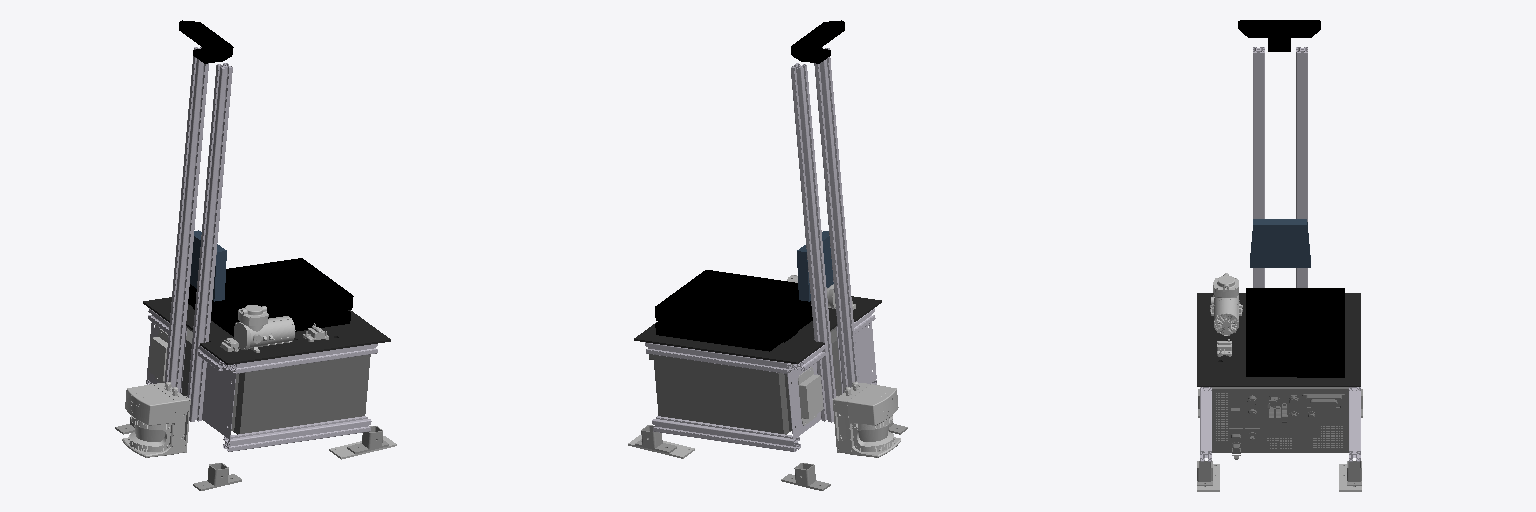
--- Facts derived from the render (not from the file) ---
Views: 3 orthographic renders of the robot side by side, from view 1: azimuth 30°, elevation 25°; view 2: azimuth 150°, elevation 25°; view 3: azimuth 270°, elevation 25°.
Robot: robot — 47 links, 46 joints (46 fixed); root link base_link; default pose: all joints at 0.
Links seen in each view (by area): view 1: IRC5_Compact:11, PC:11, arm rail:11, arm rail:21, SICK LMS291:11, top plate:11, lower side rail:31, compressor:11, front left plate:11, lower side rail:41, Kinect:11, router keepout:11 (+3 smaller); view 2: PC:11, IRC5_Compact:11, arm rail:21, arm rail:11, SICK LMS291:11, top plate:11, lower side rail:11, lower side rail:21, Kinect:11, front left plate:11, LIDAR PSU:11, router keepout:11 (+3 smaller); view 3: IRC5_Compact:11, PC:11, top plate:11, router keepout:11, arm rail:21, arm rail:11, Kinect:11, compressor:11, lower side rail:11, lower side rail:31.
Link boxes in pixels (<box>): IRC5_Compact:11: <box>181,327,370,434</box>; PC:11: <box>188,258,353,336</box>; arm rail:11: <box>187,63,232,421</box>; arm rail:21: <box>164,47,208,392</box>; SICK LMS291:11: <box>122,382,188,457</box>; top plate:11: <box>143,297,390,364</box>; lower side rail:31: <box>223,416,371,451</box>; compressor:11: <box>234,305,295,352</box>; front left plate:11: <box>202,363,235,439</box>; lower side rail:41: <box>230,344,377,373</box>; Kinect:11: <box>179,20,233,63</box>; router keepout:11: <box>190,230,226,301</box>; PC:11: <box>655,270,812,351</box>; IRC5_Compact:11: <box>649,327,841,434</box>; arm rail:21: <box>791,63,835,422</box>; arm rail:11: <box>814,47,858,392</box>; SICK LMS291:11: <box>834,382,900,457</box>; top plate:11: <box>634,296,881,363</box>; lower side rail:11: <box>652,416,800,451</box>; lower side rail:21: <box>645,342,793,373</box>; Kinect:11: <box>791,20,844,63</box>; front left plate:11: <box>836,322,876,393</box>; LIDAR PSU:11: <box>798,367,823,425</box>; router keepout:11: <box>797,231,833,301</box>; IRC5_Compact:11: <box>1212,387,1348,459</box>; PC:11: <box>1246,288,1344,377</box>; top plate:11: <box>1197,293,1360,386</box>; router keepout:11: <box>1250,219,1310,267</box>; arm rail:21: <box>1296,47,1307,287</box>; arm rail:11: <box>1253,47,1264,287</box>; Kinect:11: <box>1238,20,1320,51</box>; compressor:11: <box>1210,273,1242,335</box>; lower side rail:11: <box>1349,388,1360,461</box>; lower side rail:31: <box>1200,388,1211,461</box>.
Size in the robot's own frame: 0.8175 by 0.547 by 1.46 metres.
27 mesh visuals loaded from 33 distinct referenced files (19 binary STL); not drawn: 19 (reference not matched to a file when rendering).

robot.urdf — robot:
<?xml version="1.0" ?>
<robot name="robot">
	<link name="base_link">
	</link>
	<joint name="frame bracket:11--base_link" type="fixed">
		<parent link="base_link"/>
		<child link="frame bracket:11"/>
		<origin rpy="0 0 0" xyz="0 0 0"/>
	</joint>
	<link name="frame bracket:11">
		<visual>
			<geometry>
				<mesh filename="package://abby_urdf/frame bracket_ipt_f5a4f28d.stl" scale=".0254 .0254 .0254"/>
			</geometry>
			<origin rpy="0 0 0" xyz="-0.668614855779 0.223187514005 0.385510620591"/>
			<material name="frame bracket:11_color">
				<color rgba="0.639216 0.639216 0.639216 1"/>
			</material>
		</visual>
		<inertial>
			<mass value="3.472875"/>
			<inertia ixx="0.000430464342" ixy="0.0" ixz="-1.181352018e-05" iyy="0.001091541374" iyz="0.0" izz="0.001059703568"/>
			<origin rpy="0 0 0" xyz="-0.591517946993 0.248587514004 0.402240585061"/>
		</inertial>
		<collision>
			<geometry>
				<mesh filename="package://abby_urdf/frame bracket_ipt_f5a4f28d.stl" scale=".0254 .0254 .0254"/>
			</geometry>
			<origin rpy="0 0 0" xyz="-0.668614855779 0.223187514005 0.385510620591"/>
		</collision>
	</link>
	<link name="front frame plate:21">
		<visual>
			<geometry>
				<mesh filename="package://abby_urdf/front frame plate_ipt_3e5bfe16.stl" scale=".0254 .0254 .0254"/>
			</geometry>
			<origin rpy="0 0 0" xyz="-0.0380997460006 -0.076198819979 -0.0063519134942"/>
			<material name="front frame plate:21_color">
				<color rgba="0.752941 0.752941 0.752941 1"/>
			</material>
		</visual>
		<inertial>
			<mass value="0.352841895"/>
			<inertia ixx="0.0001399573098" ixy="0.0" ixz="0.0" iyy="3.54713128e-05" iyz="0.0" izz="0.0001749408584"/>
			<origin rpy="0 0 0" xyz="-9.49960000032e-05 -5.73476592547e-07 -0.00317623313274"/>
		</inertial>
		<collision>
			<geometry>
				<mesh filename="package://abby_urdf/front frame plate_ipt_3e5bfe16.stl" scale=".0254 .0254 .0254"/>
			</geometry>
			<origin rpy="0 0 0" xyz="-0.0380997460006 -0.076198819979 -0.0063519134942"/>
		</collision>
	</link>
	<joint name="front frame plate:2--frame bracket:11" type="fixed">
		<parent link="frame bracket:11"/>
		<child link="front frame plate:21"/>
		<origin rpy="0 0 -1.57079632679" xyz="-0.59241441583 0.235887514004 0.385512358526"/>
	</joint>
	<link name="invacare assy:11">
		<visual>
			<geometry>
				<mesh filename="package://abby_urdf/invacare assy_iam_8d469021.stl" scale=".0254 .0254 .0254"/>
			</geometry>
			<origin rpy="0 0 0" xyz="-3.057628886 -0.32113474 1.5698851"/>
			<material name="invacare assy:11_color">
				<color rgba="0.752941 0.752941 0.752941 1"/>
			</material>
		</visual>
		<inertial>
			<mass value="408.24252"/>
			<inertia ixx="-46.619958" ixy="10.86283352" ixz="-89.425875" iyy="-209.160721" iyz="-5.78642834" izz="-163.0940696"/>
			<origin rpy="0 0 0" xyz="0.2089091834 -0.1016889 -0.4207637"/>
		</inertial>
		<collision>
			<geometry>
				<mesh filename="package://abby_urdf/invacare assy_iam_8d469021.stl" scale=".0254 .0254 .0254"/>
			</geometry>
			<origin rpy="0 0 0" xyz="-3.057628886 -0.32113474 1.5698851"/>
		</collision>
	</link>
	<joint name="frame bracket:1--invacare assy:11" type="fixed">
		<parent link="frame bracket:11"/>
		<child link="invacare assy:11"/>
		<origin rpy="1.47691506249 0 -1.5707963268" xyz="-0.668614855779 0.223187514005 0.385510620591"/>
	</joint>
	<link name="back frame plate:21">
		<visual>
			<geometry>
				<mesh filename="package://abby_urdf/back frame plate_ipt_475e4947.stl" scale=".0254 .0254 .0254"/>
			</geometry>
			<origin rpy="0 0 0" xyz="-0.47756318 -0.0269875139443 -0.00634996092948"/>
			<material name="back frame plate:21_color">
				<color rgba="0.752941 0.752941 0.752941 1"/>
			</material>
		</visual>
		<inertial>
			<mass value="0.47233305"/>
			<inertia ixx="0.00033438328" ixy="8.4144445e-07" ixz="0.0" iyy="4.75112176e-05" iyz="0.0" izz="0.00038124317"/>
			<origin rpy="0 0 0" xyz="-0.439520330002 0.074461052695 -0.00317660211541"/>
		</inertial>
		<collision>
			<geometry>
				<mesh filename="package://abby_urdf/back frame plate_ipt_475e4947.stl" scale=".0254 .0254 .0254"/>
			</geometry>
			<origin rpy="0 0 0" xyz="-0.47756318 -0.0269875139443 -0.00634996092948"/>
		</collision>
	</link>
	<joint name="invacare assy:1--back frame plate:21" type="fixed">
		<parent link="invacare assy:11"/>
		<child link="back frame plate:21"/>
		<origin rpy="1.6646775911 0 0" xyz="0.428673514 0.05834888 -0.6874312388"/>
	</joint>
	<link name="short frame bracket:11">
		<visual>
			<geometry>
				<mesh filename="package://abby_urdf/short frame bracket_ipt_f5a4f28d.stl" scale=".0254 .0254 .0254"/>
			</geometry>
			<origin rpy="0 0 0" xyz="-0.0253999879046 -0.0254000000063 1.10656414559e-06"/>
			<material name="short frame bracket:11_color">
				<color rgba="0.639216 0.639216 0.639216 1"/>
			</material>
		</visual>
		<inertial>
			<mass value="3.472875"/>
			<inertia ixx="0.00044426921" ixy="0.0" ixz="-8.33766626e-05" iyy="0.000868211498" iyz="0.0" izz="0.000832332886"/>
			<origin rpy="0 0 0" xyz="0.0451349027302 0 0.0181780891503"/>
		</inertial>
		<collision>
			<geometry>
				<mesh filename="package://abby_urdf/short frame bracket_ipt_f5a4f28d.stl" scale=".0254 .0254 .0254"/>
			</geometry>
			<origin rpy="0 0 0" xyz="-0.0253999879046 -0.0254000000063 1.10656414559e-06"/>
		</collision>
	</link>
	<joint name="back frame plate:2--short frame bracket:11" type="fixed">
		<parent link="back frame plate:21"/>
		<child link="short frame bracket:11"/>
		<origin rpy="3.14159265353 0 -1.57079632653" xyz="-0.452163434002 0.100012345488 -0.00635038374072"/>
	</joint>
	<link name="lower front rail:51">
		<visual>
			<geometry>
				<mesh filename="package://abby_urdf/lower front rail_ipt_926bd022.stl" scale=".0254 .0254 .0254"/>
			</geometry>
			<origin rpy="0 0 0" xyz="0 -0.024500078 0.01391412"/>
			<material name="lower front rail:51_color">
				<color rgba="0.772549 0.760784 0.803922 1"/>
			</material>
		</visual>
		<inertial>
			<mass value="3.3373998"/>
			<inertia ixx="0.0002209592308" ixy="0.0" ixz="0.0" iyy="0.01201763794" iyz="0.0" izz="0.01201763794"/>
			<origin rpy="0 0 0" xyz="0.228118763983 -0.0170002199428 0.0199999600125"/>
		</inertial>
		<collision>
			<geometry>
				<mesh filename="package://abby_urdf/lower front rail_ipt_926bd022.stl" scale=".0254 .0254 .0254"/>
			</geometry>
			<origin rpy="0 0 0" xyz="0 -0.024500078 0.01391412"/>
		</collision>
	</link>
	<joint name="lower front rail:5--short frame bracket:11" type="fixed">
		<parent link="short frame bracket:11"/>
		<child link="lower front rail:51"/>
		<origin rpy="-0.0938812643083 0 -1.5707963268" xyz="0.0737204456572 -0.0190449199831 0.0570486936296"/>
	</joint>
	<link name="front frame plate:11">
		<visual>
			<geometry>
				<mesh filename="package://abby_urdf/front frame plate_ipt_3e5bfe16.stl" scale=".0254 .0254 .0254"/>
			</geometry>
			<origin rpy="0 0 0" xyz="-0.0381002539994 -0.0762020599195 -0.00634843762365"/>
			<material name="front frame plate:11_color">
				<color rgba="0.752941 0.752941 0.752941 1"/>
			</material>
		</visual>
		<inertial>
			<mass value="0.352841895"/>
			<inertia ixx="0.0001399573098" ixy="0.0" ixz="0.0" iyy="3.54713128e-05" iyz="0.0" izz="0.0001749408584"/>
			<origin rpy="0 0 0" xyz="-9.49959999988e-05 -2.19344651986e-06 -0.00317394242619"/>
		</inertial>
		<collision>
			<geometry>
				<mesh filename="package://abby_urdf/front frame plate_ipt_3e5bfe16.stl" scale=".0254 .0254 .0254"/>
			</geometry>
			<origin rpy="0 0 0" xyz="-0.0381002539994 -0.0762020599195 -0.00634843762365"/>
		</collision>
	</link>
	<joint name="front frame plate:1--invacare assy:11" type="fixed">
		<parent link="invacare assy:11"/>
		<child link="front frame plate:11"/>
		<origin rpy="-1.6646775911 0 -3.14159265359" xyz="0.45466 0.00082296 -0.07646162"/>
	</joint>
	<link name="short frame bracket:21">
		<visual>
			<geometry>
				<mesh filename="package://abby_urdf/short frame bracket_ipt_f5a4f28d.stl" scale=".0254 .0254 .0254"/>
			</geometry>
			<origin rpy="0 0 0" xyz="-0.12541235717 -0.0507999999928 1.4695302738e-06"/>
			<material name="short frame bracket:21_color">
				<color rgba="0.639216 0.639216 0.639216 1"/>
			</material>
		</visual>
		<inertial>
			<mass value="3.472875"/>
			<inertia ixx="0.00044426921" ixy="0.0" ixz="-8.33766626e-05" iyy="0.000868211498" iyz="0.0" izz="0.000832332886"/>
			<origin rpy="0 0 0" xyz="-0.0548774665279 -0.0253999999971 0.0181784521161"/>
		</inertial>
		<collision>
			<geometry>
				<mesh filename="package://abby_urdf/short frame bracket_ipt_f5a4f28d.stl" scale=".0254 .0254 .0254"/>
			</geometry>
			<origin rpy="0 0 0" xyz="-0.12541235717 -0.0507999999928 1.4695302738e-06"/>
		</collision>
	</link>
	<joint name="short frame bracket:2--invacare assy:11" type="fixed">
		<parent link="invacare assy:11"/>
		<child link="short frame bracket:21"/>
		<origin rpy="0 1.47691506249 1.57079632741" xyz="0.445437514 0.06467094 -0.6868359898"/>
	</joint>
	<link name="lower vertical rail:11">
		<visual>
			<geometry>
				<mesh filename="package://abby_urdf/lower vertical rail_ipt_926bd022.stl" scale=".0254 .0254 .0254"/>
			</geometry>
			<origin rpy="0 0 0" xyz="-0.00168655999995 0.00839292200654 -0.0260857999979"/>
			<material name="lower vertical rail:11_color">
				<color rgba="0.772549 0.760784 0.803922 1"/>
			</material>
		</visual>
		<inertial>
			<mass value="2.6309619"/>
			<inertia ixx="0.0001741879986" ixy="0.0" ixz="0.0" iyy="0.00592055618" iyz="0.0" izz="0.00592055618"/>
			<origin rpy="0 0 0" xyz="0.17814544 0.015893034005 -0.0199999599957"/>
		</inertial>
		<collision>
			<geometry>
				<mesh filename="package://abby_urdf/lower vertical rail_ipt_926bd022.stl" scale=".0254 .0254 .0254"/>
			</geometry>
			<origin rpy="0 0 0" xyz="-0.00168655999995 0.00839292200654 -0.0260857999979"/>
		</collision>
	</link>
	<joint name="short frame bracket:2--lower vertical rail:11" type="fixed">
		<parent link="short frame bracket:21"/>
		<child link="lower vertical rail:11"/>
		<origin rpy="1.57079632667 -1.47691506249 0" xyz="-0.0323364095033 -0.0463549999982 0.00466476737885"/>
	</joint>
	<link name="lower front rail:41">
		<visual>
			<geometry>
				<mesh filename="package://abby_urdf/lower front rail_ipt_926bd022.stl" scale=".0254 .0254 .0254"/>
			</geometry>
			<origin rpy="0 0 0" xyz="0 -0.027500072 -0.02308606"/>
			<material name="lower front rail:41_color">
				<color rgba="0.772549 0.760784 0.803922 1"/>
			</material>
		</visual>
		<inertial>
			<mass value="3.3373998"/>
			<inertia ixx="0.0002209592308" ixy="0.0" ixz="0.0" iyy="0.01201763794" iyz="0.0" izz="0.01201763794"/>
			<origin rpy="0 0 0" xyz="0.228118763986 -0.0200002139428 -0.0170002199875"/>
		</inertial>
		<collision>
			<geometry>
				<mesh filename="package://abby_urdf/lower front rail_ipt_926bd022.stl" scale=".0254 .0254 .0254"/>
			</geometry>
			<origin rpy="0 0 0" xyz="0 -0.027500072 -0.02308606"/>
		</collision>
	</link>
	<joint name="lower front rail:4--lower vertical rail:11" type="fixed">
		<parent link="lower vertical rail:11"/>
		<child link="lower front rail:41"/>
		<origin rpy="0 -1.57079632674 3.14159265359" xyz="0.354977700001 -0.00410717987564 -0.496237514"/>
	</joint>
	<link name="back frame plate:11">
		<visual>
			<geometry>
				<mesh filename="package://abby_urdf/back frame plate_ipt_475e4947.stl" scale=".0254 .0254 .0254"/>
			</geometry>
			<origin rpy="0 0 0" xyz="-0.044741846 -0.0847806933563 0"/>
			<material name="back frame plate:11_color">
				<color rgba="0.752941 0.752941 0.752941 1"/>
			</material>
		</visual>
		<inertial>
			<mass value="0.47233305"/>
			<inertia ixx="0.00033438328" ixy="8.4144445e-07" ixz="0.0" iyy="4.75112176e-05" iyz="0.0" izz="0.00038124317"/>
			<origin rpy="0 0 0" xyz="-0.00669874200006 0.016668112919 0.003174163661"/>
		</inertial>
		<collision>
			<geometry>
				<mesh filename="package://abby_urdf/back frame plate_ipt_475e4947.stl" scale=".0254 .0254 .0254"/>
			</geometry>
			<origin rpy="0 0 0" xyz="-0.044741846 -0.0847806933563 0"/>
		</collision>
	</link>
	<joint name="back frame plate:1--invacare assy:11" type="fixed">
		<parent link="invacare assy:11"/>
		<child link="back frame plate:11"/>
		<origin rpy="1.47691506249 0 -3.14159265357" xyz="0.451495668 0.0529336 -0.629892568"/>
	</joint>
	<link name="front upright:11">
		<visual>
			<geometry>
				<mesh filename="package://abby_urdf/front upright_ipt_926bd022.stl" scale=".0254 .0254 .0254"/>
			</geometry>
			<origin rpy="0 0 0" xyz="-0.36211002 0.0112344200002 -0.0260857999993"/>
			<material name="front upright:11_color">
				<color rgba="0.772549 0.760784 0.803922 1"/>
			</material>
		</visual>
		<inertial>
			<mass value="3.01928445"/>
			<inertia ixx="0.0001998978828" ixy="0.0" ixz="0.0" iyy="0.00891645832" iyz="0.0" izz="0.00891645832"/>
			<origin rpy="0 0 0" xyz="-0.15573502 0.0187350400002 -0.0199999599996"/>
		</inertial>
		<collision>
			<geometry>
				<mesh filename="package://abby_urdf/front upright_ipt_926bd022.stl" scale=".0254 .0254 .0254"/>
			</geometry>
			<origin rpy="0 0 0" xyz="-0.36211002 0.0112344200002 -0.0260857999993"/>
		</collision>
	</link>
	<joint name="frame bracket:1--front upright:11" type="fixed">
		<parent link="frame bracket:11"/>
		<child link="front upright:11"/>
		<origin rpy="-1.5707963268 1.47691506249 3.14159265359" xyz="-0.605070815547 0.227632514004 0.445910562843"/>
	</joint>
	<link name="lower front rail:31">
		<visual>
			<geometry>
				<mesh filename="package://abby_urdf/lower front rail_ipt_926bd022.stl" scale=".0254 .0254 .0254"/>
			</geometry>
			<origin rpy="0 0 0" xyz="0 -0.00750062 -0.00608584"/>
			<material name="lower front rail:31_color">
				<color rgba="0.772549 0.760784 0.803922 1"/>
			</material>
		</visual>
		<inertial>
			<mass value="3.3373998"/>
			<inertia ixx="0.0002209592308" ixy="0.0" ixz="0.0" iyy="0.01201763794" iyz="0.0" izz="0.01201763794"/>
			<origin rpy="0 0 0" xyz="0.22811876398 0 0"/>
		</inertial>
		<collision>
			<geometry>
				<mesh filename="package://abby_urdf/lower front rail_ipt_926bd022.stl" scale=".0254 .0254 .0254"/>
			</geometry>
			<origin rpy="0 0 0" xyz="0 -0.00750062 -0.00608584"/>
		</collision>
	</link>
	<joint name="lower front rail:3--front upright:11" type="fixed">
		<parent link="front upright:11"/>
		<child link="lower front rail:31"/>
		<origin rpy="-3.14159265316 -1.57079632679 3.14159265316" xyz="-0.07291324 0.01873504 0"/>
	</joint>
	<link name="LIDAR Bracket:11">
		<visual>
			<geometry>
				<mesh filename="package://abby_urdf/lidar bracket_ipt_795304a8.stl" scale=".0254 .0254 .0254"/>
			</geometry>
			<origin rpy="0 0 0" xyz="-0.0508000711198 -0.0199999600004 -0.00635000000009"/>
			<material name="LIDAR Bracket:11_color">
				<color rgba="0.752941 0.752941 0.752941 1"/>
			</material>
		</visual>
		<inertial>
			<mass value="0.81895905"/>
			<inertia ixx="0.00036615964" ixy="0.0" ixz="0.0" iyy="0.000689690386" iyz="-1.84667175e-05" izz="0.000354233264"/>
			<origin rpy="0 0 0" xyz="0 0.0197358 0.028702"/>
		</inertial>
		<collision>
			<geometry>
				<mesh filename="package://abby_urdf/lidar bracket_ipt_795304a8.stl" scale=".0254 .0254 .0254"/>
			</geometry>
			<origin rpy="0 0 0" xyz="-0.0508000711198 -0.0199999600004 -0.00635000000009"/>
		</collision>
	</link>
	<joint name="LIDAR Bracket:1--lower front rail:31" type="fixed">
		<parent link="lower front rail:31"/>
		<child link="LIDAR Bracket:11"/>
		<origin rpy="3.14159265359 0 0" xyz="0.22585001312 0 0.0199999599996"/>
	</joint>
	<link name="SICK LMS291:11">
		<visual>
			<geometry>
				<mesh filename="package://abby_urdf/sick lms291_ipt_2ad4e53c.stl" scale=".0254 .0254 .0254"/>
			</geometry>
			<origin rpy="0 0 0" xyz="-0.068399985119 -0.00245618 -0.0929995600008"/>
			<material name="SICK LMS291:11_color">
				<color rgba="0.752941 0.752941 0.752941 1"/>
			</material>
		</visual>
		<inertial>
			<mass value="18.07087905"/>
			<inertia ixx="0.01747837322" ixy="-4.41896224e-07" ixz="4.15939678e-07" iyy="0.01276274384" iyz="0.00072844233" izz="0.01750198604"/>
			<origin rpy="0 0 0" xyz="-0.0684016767592 0.06534658 -0.0708761600008"/>
		</inertial>
		<collision>
			<geometry>
				<mesh filename="package://abby_urdf/sick lms291_ipt_2ad4e53c.stl" scale=".0254 .0254 .0254"/>
			</geometry>
			<origin rpy="0 0 0" xyz="-0.068399985119 -0.00245618 -0.0929995600008"/>
		</collision>
	</link>
	<joint name="SICK LMS291:1--LIDAR Bracket:11" type="fixed">
		<parent link="LIDAR Bracket:11"/>
		<child link="SICK LMS291:11"/>
		<origin rpy="-1.57079632679 0 3.14159265359" xyz="-0.0683999851203 0.0263499599995 0.0793749999999"/>
	</joint>
	<link name="lower side rail:11">
		<visual>
			<geometry>
				<mesh filename="package://abby_urdf/lower side rail_ipt_926bd022.stl" scale=".0254 .0254 .0254"/>
			</geometry>
			<origin rpy="0 0 0" xyz="0.0370001800001 0.0125001019998 -0.0260858"/>
			<material name="lower side rail:11_color">
				<color rgba="0.772549 0.760784 0.803922 1"/>
			</material>
		</visual>
		<inertial>
			<mass value="3.81828825"/>
			<inertia ixx="0.0002527964516" ixy="0.0" ixz="0.0" iyy="0.0179577398" iyz="0.0" izz="0.0179577398"/>
			<origin rpy="0 0 0" xyz="0.29798772 0.0199999599977 -0.01999996"/>
		</inertial>
		<collision>
			<geometry>
				<mesh filename="package://abby_urdf/lower side rail_ipt_926bd022.stl" scale=".0254 .0254 .0254"/>
			</geometry>
			<origin rpy="0 0 0" xyz="0.0370001800001 0.0125001019998 -0.0260858"/>
		</collision>
	</link>
	<joint name="lower front rail:3--lower side rail:11" type="fixed">
		<parent link="lower front rail:31"/>
		<child link="lower side rail:11"/>
		<origin rpy="0 0 1.57079632679" xyz="0 -0.01700022 0.01999996"/>
	</joint>
	<link name="base plate:11">
		<visual>
			<geometry>
				<mesh filename="package://abby_urdf/base plate_iam_348b8023.stl" scale=".0254 .0254 .0254"/>
			</geometry>
			<origin rpy="0 0 0" xyz="0.238813339998 -0.242769136001 -0.581264014"/>
			<material name="base plate:11_color">
				<color rgba="0.752941 0.752941 0.752941 1"/>
			</material>
		</visual>
		<inertial>
			<mass value="49.0464765"/>
			<inertia ixx="0.178907344" ixy="-0.01934955022" ixz="-0.001438351376" iyy="0.217495432" iyz="0.00237885263" izz="0.382030264"/>
			<origin rpy="0 0 0" xyz="0.274068540002 0.274410423998 -0.0294030399995"/>
		</inertial>
		<collision>
			<geometry>
				<mesh filename="package://abby_urdf/base plate_iam_348b8023.stl" scale=".0254 .0254 .0254"/>
			</geometry>
			<origin rpy="0 0 0" xyz="0.238813339998 -0.242769136001 -0.581264014"/>
		</collision>
	</link>
	<joint name="base plate:1--lower front rail:31" type="fixed">
		<parent link="lower front rail:31"/>
		<child link="base plate:11"/>
		<origin rpy="0 0 1.57079632679" xyz="0.466924898 0.00750061999634 -0.00499872000083"/>
	</joint>
	<link name="arm rail:21">
		<visual>
			<geometry>
				<mesh filename="package://abby_urdf/arm rail_ipt_926bd022.stl" scale=".0254 .0254 .0254"/>
			</geometry>
			<origin rpy="0 0 0" xyz="-1.2192 0.00758951999885 0.147264120002"/>
			<material name="arm rail:21_color">
				<color rgba="0.772549 0.760784 0.803922 1"/>
			</material>
		</visual>
		<inertial>
			<mass value="8.9185194"/>
			<inertia ixx="0.0005904668" ixy="0.0" ixz="0.0" iyy="0.2275222488" iyz="0.0" izz="0.2275222488"/>
			<origin rpy="0 0 0" xyz="-0.6096 0.0150901399988 0.153349960001"/>
		</inertial>
		<collision>
			<geometry>
				<mesh filename="package://abby_urdf/arm rail_ipt_926bd022.stl" scale=".0254 .0254 .0254"/>
			</geometry>
			<origin rpy="0 0 0" xyz="-1.2192 0.00758951999885 0.147264120002"/>
		</collision>
	</link>
	<joint name="lower front rail:3--arm rail:21" type="fixed">
		<parent link="lower front rail:31"/>
		<child link="arm rail:21"/>
		<origin rpy="0 1.57079632679 0" xyz="0 -0.01700022 0.01999996"/>
	</joint>
	<link name="router keepout:11">
		<visual>
			<geometry>
				<mesh filename="package://abby_urdf/router keepout_ipt_2b3ba7b4.stl" scale=".0254 .0254 .0254"/>
			</geometry>
			<origin rpy="0 0 0" xyz="0 -0.00294386 0"/>
			<material name="router keepout:11_color">
				<color rgba="0.25098 0.321569 0.392157 1"/>
			</material>
		</visual>
		<inertial>
			<mass value="1.378125"/>
			<inertia ixx="0.00067720807" ixy="0.0" ixz="0.0" iyy="0.00089532674" iyz="0.0" izz="0.001503955222"/>
			<origin rpy="0 0 0" xyz="0 -0.00110744 0.01905"/>
		</inertial>
		<collision>
			<geometry>
				<mesh filename="package://abby_urdf/router keepout_ipt_2b3ba7b4.stl" scale=".0254 .0254 .0254"/>
			</geometry>
			<origin rpy="0 0 0" xyz="0 -0.00294386 0"/>
		</collision>
	</link>
	<joint name="router keepout:1--arm rail:21" type="fixed">
		<parent link="arm rail:21"/>
		<child link="router keepout:11"/>
		<origin rpy="-1.57120376088 -1.57079632679 0.000376104790139" xyz="-0.49485296 0.0350900999982 0.225850013121"/>
	</joint>
	<link name="front right plate:11">
		<visual>
			<geometry>
				<mesh filename="package://abby_urdf/front right plate_ipt_a8be7025.stl" scale=".0254 .0254 .0254"/>
			</geometry>
			<origin rpy="0 0 0" xyz="-0.106674666001 -0.13335 -0.00158749997673"/>
			<material name="front right plate:11_color">
				<color rgba="0.772549 0.760784 0.803922 1"/>
			</material>
		</visual>
		<inertial>
			<mass value="1.149883245"/>
			<inertia ixx="0.001350562598" ixy="-6.82770396e-05" ixz="0.0" iyy="0.000865838512" iyz="0.0" izz="0.002216301626"/>
			<origin rpy="0 0 0" xyz="0.00252806199982 -0.00324104 -0.000792480000552"/>
		</inertial>
		<collision>
			<geometry>
				<mesh filename="package://abby_urdf/front right plate_ipt_a8be7025.stl" scale=".0254 .0254 .0254"/>
			</geometry>
			<origin rpy="0 0 0" xyz="-0.106674666001 -0.13335 -0.00158749997673"/>
		</collision>
	</link>
	<joint name="front right plate:1--front upright:11" type="fixed">
		<parent link="front upright:11"/>
		<child link="front right plate:11"/>
		<origin rpy="3.14159265359 -1.57079632657 -1.57079706377" xyz="-0.22876002 0.0387349999995 0.0666750000007"/>
	</joint>
	<link name="LIDAR PSU:11">
		<visual>
			<geometry>
				<mesh filename="package://abby_urdf/lidar psu_ipt_2888cf41.stl" scale=".0254 .0254 .0254"/>
			</geometry>
			<origin rpy="0 0 0" xyz="-0.081819185234 0.00544283938007 0.00270255999996"/>
			<material name="LIDAR PSU:11_color">
				<color rgba="0.752941 0.752941 0.752941 1"/>
			</material>
		</visual>
		<inertial>
			<mass value="1.819125"/>
			<inertia ixx="0.0002922014788" ixy="0.0" ixz="0.0" iyy="0.000526369844" iyz="0.0" izz="0.000764631098"/>
			<origin rpy="0 0 0" xyz="-0.0192017162198 0.00713515039153 0.0163982399999"/>
		</inertial>
		<collision>
			<geometry>
				<mesh filename="package://abby_urdf/lidar psu_ipt_2888cf41.stl" scale=".0254 .0254 .0254"/>
			</geometry>
			<origin rpy="0 0 0" xyz="-0.081819185234 0.00544283938007 0.00270255999996"/>
		</collision>
	</link>
	<joint name="front right plate:1--LIDAR PSU:11" type="fixed">
		<parent link="front right plate:11"/>
		<child link="LIDAR PSU:11"/>
		<origin rpy="0 0 1.57160500763" xyz="0.00252806199982 -0.00324104 -0.000792480000552"/>
	</joint>
	<link name="top plate:11">
		<visual>
			<geometry>
				<mesh filename="package://abby_urdf/top plate_ipt_9041f1eb.stl" scale=".0254 .0254 .0254"/>
			</geometry>
			<origin rpy="0 0 0" xyz="-0.269874679958 -0.301624492002 -0.00635000000047"/>
			<material name="top plate:11_color">
				<color rgba="0.2 0.2 0.2 1"/>
			</material>
		</visual>
		<inertial>
			<mass value="11.7595296"/>
			<inertia ixx="0.0704677358" ixy="-3.27700296e-05" ixz="0.0" iyy="0.059930332" iyz="0.0" izz="0.1303819748"/>
			<origin rpy="0 0 0" xyz="-0.000294589199942 -0.0066802 -0.003175"/>
		</inertial>
		<collision>
			<geometry>
				<mesh filename="package://abby_urdf/top plate_ipt_9041f1eb.stl" scale=".0254 .0254 .0254"/>
			</geometry>
			<origin rpy="0 0 0" xyz="-0.269874679958 -0.301624492002 -0.00635000000047"/>
		</collision>
	</link>
	<joint name="top plate:1--front right plate:11" type="fixed">
		<parent link="front right plate:11"/>
		<child link="top plate:11"/>
		<origin rpy="1.57079632679 0 0" xyz="0.163200013903 0.13335 -0.261625080036"/>
	</joint>
	<link name="Spike H:11">
		<visual>
			<geometry>
				<mesh filename="package://abby_urdf/spike h_iam_f19c9874.stl" scale=".0254 .0254 .0254"/>
			</geometry>
			<origin rpy="0 0 0" xyz="0.164325112034 -0.232999280004 0"/>
			<material name="Spike H:11_color">
				<color rgba="0.752941 0.752941 0.752941 1"/>
			</material>
		</visual>
		<inertial>
			<mass value="0.124133121"/>
			<inertia ixx="4.84250074e-06" ixy="-7.83000526e-09" ixz="-2.276395814e-09" iyy="8.25012034e-06" iyz="-1.999534768e-07" izz="1.021235446e-05"/>
			<origin rpy="0 0 0" xyz="0.164211574034 -0.231630220004 0.00965708"/>
		</inertial>
		<collision>
			<geometry>
				<mesh filename="package://abby_urdf/spike h_iam_f19c9874.stl" scale=".0254 .0254 .0254"/>
			</geometry>
			<origin rpy="0 0 0" xyz="0.164325112034 -0.232999280004 0"/>
		</collision>
	</link>
	<joint name="top plate:1--Spike H:11" type="fixed">
		<parent link="top plate:11"/>
		<child link="Spike H:11"/>
		<origin rpy="-3.14159265359 0 0" xyz="0 0 -0.00635"/>
	</joint>
	<link name="compressor:11">
		<visual>
			<geometry>
				<mesh filename="package://abby_urdf/compressor_iam_e870b89.stl" scale=".0254 .0254 .0254"/>
			</geometry>
			<origin rpy="0 0 0" xyz="0.2170938 0.0541649920005 0.0585088999996"/>
			<material name="compressor:11_color">
				<color rgba="0.752941 0.752941 0.752941 1"/>
			</material>
		</visual>
		<inertial>
			<mass value="10.3359375"/>
			<inertia ixx="-0.00611323328" ixy="0.00734136326" ixz="0.01218512218" iyy="-0.02471527828" iyz="0.00430748164" izz="-0.02232485332"/>
			<origin rpy="0 0 0" xyz="0.0555625 -0.000189230000282 -0.03601466"/>
		</inertial>
		<collision>
			<geometry>
				<mesh filename="package://abby_urdf/compressor_iam_e870b89.stl" scale=".0254 .0254 .0254"/>
			</geometry>
			<origin rpy="0 0 0" xyz="0.2170938 0.0541649920005 0.0585088999996"/>
		</collision>
	</link>
	<joint name="compressor:1--top plate:11" type="fixed">
		<parent link="top plate:11"/>
		<child link="compressor:11"/>
		<origin rpy="-1.57079632679 1.57079632679 6.32411066351e-05" xyz="0.174625066039 0.161925000001 -0.00634999999969"/>
	</joint>
	<link name="Breaker:11">
		<visual>
			<geometry>
				<mesh filename="package://abby_urdf/breaker_iam_746c8f85.stl" scale=".0254 .0254 .0254"/>
			</geometry>
			<origin rpy="0 0 0" xyz="-0.0160837880002 -0.0289115499999 0.00508"/>
			<material name="Breaker:11_color">
				<color rgba="0.752941 0.752941 0.752941 1"/>
			</material>
		</visual>
		<inertial>
			<mass value="0.455268555"/>
			<inertia ixx="3.69211458e-05" ixy="-4.35295168e-06" ixz="1.05369649e-07" iyy="2.44135199e-05" iyz="-2.552221056e-12" izz="4.8643287e-05"/>
			<origin rpy="0 0 0" xyz="-0.0161287460002 -0.0289115499999 0.01533652"/>
		</inertial>
		<collision>
			<geometry>
				<mesh filename="package://abby_urdf/breaker_iam_746c8f85.stl" scale=".0254 .0254 .0254"/>
			</geometry>
			<origin rpy="0 0 0" xyz="-0.0160837880002 -0.0289115499999 0.00508"/>
		</collision>
	</link>
	<joint name="Breaker:1--top plate:11" type="fixed">
		<parent link="top plate:11"/>
		<child link="Breaker:11"/>
		<origin rpy="-3.14159265359 0 0" xyz="0.196423854041 -0.104857549998 -0.00634999999966"/>
	</joint>
	<link name="front left plate:11">
		<visual>
			<geometry>
				<mesh filename="package://abby_urdf/front left plate_ipt_a8be7025.stl" scale=".0254 .0254 .0254"/>
			</geometry>
			<origin rpy="0 0 0" xyz="-0.040000174 -0.22670008 0"/>
			<material name="front left plate:11_color">
				<color rgba="0.772549 0.760784 0.803922 1"/>
			</material>
		</visual>
		<inertial>
			<mass value="1.15054695"/>
			<inertia ixx="0.001351501844" ixy="-6.83153702e-05" ixz="0.0" iyy="0.000866128186" iyz="0.0" izz="0.002217530546"/>
			<origin rpy="0 0 0" xyz="0.06919468 -0.09660636 0.000792480000876"/>
		</inertial>
		<collision>
			<geometry>
				<mesh filename="package://abby_urdf/front left plate_ipt_a8be7025.stl" scale=".0254 .0254 .0254"/>
			</geometry>
			<origin rpy="0 0 0" xyz="-0.040000174 -0.22670008 0"/>
		</collision>
	</link>
	<joint name="front left plate:1--front right plate:11" type="fixed">
		<parent link="front right plate:11"/>
		<child link="front left plate:11"/>
		<origin rpy="3.14159265359 0 3.14159265359" xyz="0.384175 0.0933500799993 0"/>
	</joint>
	<link name="front top side rail:11">
		<visual>
			<geometry>
				<mesh filename="package://abby_urdf/front top side rail_ipt_926bd022.stl" scale=".0254 .0254 .0254"/>
			</geometry>
			<origin rpy="0 0 0" xyz="0 0.01249934 -0.01188466"/>
			<material name="front top side rail:11_color">
				<color rgba="0.772549 0.760784 0.803922 1"/>
			</material>
		</visual>
		<inertial>
			<mass value="0.975463335"/>
			<inertia ixx="6.45823794e-05" ixy="0.0" ixz="0.0" iyy="0.000329605122" iyz="0.0" izz="0.000329605122"/>
			<origin rpy="0 0 0" xyz="0.0666750000053 0.0199999599822 -0.00579882000012"/>
		</inertial>
		<collision>
			<geometry>
				<mesh filename="package://abby_urdf/front top side rail_ipt_926bd022.stl" scale=".0254 .0254 .0254"/>
			</geometry>
			<origin rpy="0 0 0" xyz="0 0.01249934 -0.01188466"/>
		</collision>
	</link>
	<joint name="front top side rail:1--front upright:11" type="fixed">
		<parent link="front upright:11"/>
		<child link="front top side rail:11"/>
		<origin rpy="-1.57085818898 -1.57079632654 1.57085818905" xyz="-0.34790888 -0.00126492 0"/>
	</joint>
	<link name="front top side rail:21">
		<visual>
			<geometry>
				<mesh filename="package://abby_urdf/front top side rail_ipt_926bd022.stl" scale=".0254 .0254 .0254"/>
			</geometry>
			<origin rpy="0 0 0" xyz="0 -0.02450084 0.01391412"/>
			<material name="front top side rail:21_color">
				<color rgba="0.772549 0.760784 0.803922 1"/>
			</material>
		</visual>
		<inertial>
			<mass value="0.975463335"/>
			<inertia ixx="6.45823794e-05" ixy="0.0" ixz="0.0" iyy="0.000329605122" iyz="0.0" izz="0.000329605122"/>
			<origin rpy="0 0 0" xyz="0.0666750000003 -0.0170002199992 0.0199999599999"/>
		</inertial>
		<collision>
			<geometry>
				<mesh filename="package://abby_urdf/front top side rail_ipt_926bd022.stl" scale=".0254 .0254 .0254"/>
			</geometry>
			<origin rpy="0 0 0" xyz="0 -0.02450084 0.01391412"/>
		</collision>
	</link>
	<joint name="front top side rail:2--front top side rail:11" type="fixed">
		<parent link="front top side rail:11"/>
		<child link="front top side rail:21"/>
		<origin rpy="-3.14159265359 0 3.14159265334" xyz="0.45085000001 0.03700017988 0.0142011399992"/>
	</joint>
	<link name="lower side rail:21">
		<visual>
			<geometry>
				<mesh filename="package://abby_urdf/lower side rail_ipt_926bd022.stl" scale=".0254 .0254 .0254"/>
			</geometry>
			<origin rpy="0 0 0" xyz="0 -0.027499564 -0.02308606"/>
			<material name="lower side rail:21_color">
				<color rgba="0.772549 0.760784 0.803922 1"/>
			</material>
		</visual>
		<inertial>
			<mass value="3.81828825"/>
			<inertia ixx="0.0002527964516" ixy="0.0" ixz="0.0" iyy="0.0179577398" iyz="0.0" izz="0.0179577398"/>
			<origin rpy="0 0 0" xyz="0.26098754 -0.019999706002 -0.01700022"/>
		</inertial>
		<collision>
			<geometry>
				<mesh filename="package://abby_urdf/lower side rail_ipt_926bd022.stl" scale=".0254 .0254 .0254"/>
			</geometry>
			<origin rpy="0 0 0" xyz="0 -0.027499564 -0.02308606"/>
		</collision>
	</link>
	<joint name="lower side rail:2--front upright:11" type="fixed">
		<parent link="front upright:11"/>
		<child link="lower side rail:21"/>
		<origin rpy="-1.57079632679 0 1.57079632679" xyz="-0.35911028 0.0387350000003 -0.0399996659991"/>
	</joint>
	<link name="lower side rail:41">
		<visual>
			<geometry>
				<mesh filename="package://abby_urdf/lower side rail_ipt_926bd022.stl" scale=".0254 .0254 .0254"/>
			</geometry>
			<origin rpy="0 0 0" xyz="0 -0.481350066 -0.0260858"/>
			<material name="lower side rail:41_color">
				<color rgba="0.772549 0.760784 0.803922 1"/>
			</material>
		</visual>
		<inertial>
			<mass value="3.81828825"/>
			<inertia ixx="0.0002527964516" ixy="0.0" ixz="0.0" iyy="0.0179577398" iyz="0.0" izz="0.0179577398"/>
			<origin rpy="0 0 0" xyz="0.260987539996 -0.473849954002 -0.01999996"/>
		</inertial>
		<collision>
			<geometry>
				<mesh filename="package://abby_urdf/lower side rail_ipt_926bd022.stl" scale=".0254 .0254 .0254"/>
			</geometry>
			<origin rpy="0 0 0" xyz="0 -0.481350066 -0.0260858"/>
		</collision>
	</link>
	<joint name="lower side rail:2--lower side rail:41" type="fixed">
		<parent link="lower side rail:21"/>
		<child link="lower side rail:41"/>
		<origin rpy="0 0 0" xyz="0 -0.036999672 0.00299973999994"/>
	</joint>
	<link name="lower vertical rail:21">
		<visual>
			<geometry>
				<mesh filename="package://abby_urdf/lower vertical rail_ipt_926bd022.stl" scale=".0254 .0254 .0254"/>
			</geometry>
			<origin rpy="0 0 0" xyz="-0.3606038 -0.549474644003 0.0139138658617"/>
			<material name="lower vertical rail:21_color">
				<color rgba="0.772549 0.760784 0.803922 1"/>
			</material>
		</visual>
		<inertial>
			<mass value="2.6309619"/>
			<inertia ixx="0.0001741879986" ixy="0.0" ixz="0.0" iyy="0.00592055618" iyz="0.0" izz="0.00592055618"/>
			<origin rpy="0 0 0" xyz="-0.1807718 -0.541974532005 0.0199997058639"/>
		</inertial>
		<collision>
			<geometry>
				<mesh filename="package://abby_urdf/lower vertical rail_ipt_926bd022.stl" scale=".0254 .0254 .0254"/>
			</geometry>
			<origin rpy="0 0 0" xyz="-0.3606038 -0.549474644003 0.0139138658617"/>
		</collision>
	</link>
	<joint name="lower side rail:2--lower vertical rail:21" type="fixed">
		<parent link="lower side rail:21"/>
		<child link="lower vertical rail:21"/>
		<origin rpy="1.57079632654 -1.57079632679 0" xyz="0 0 0"/>
	</joint>
	<link name="IRC5_Compact:11">
		<visual>
			<geometry>
				<mesh filename="package://abby_urdf/irc5_compact_ipt_c844072c.stl" scale=".0254 .0254 .0254"/>
			</geometry>
			<origin rpy="0 0 0" xyz="0 0 -0.462398872"/>
			<material name="IRC5_Compact:11_color">
				<color rgba="0.498039 0.498039 0.498039 1"/>
			</material>
		</visual>
		<inertial>
			<mass value="138.2535"/>
			<inertia ixx="0.754899222" ixy="-0.001222912922" ixz="-0.001242885798" iyy="1.080495724" iyz="-0.00649174064" izz="0.610855168"/>
			<origin rpy="0 0 0" xyz="-0.224836540483 0.12333478 -0.249483371944"/>
		</inertial>
		<collision>
			<geometry>
				<mesh filename="package://abby_urdf/irc5_compact_ipt_c844072c.stl" scale=".0254 .0254 .0254"/>
			</geometry>
			<origin rpy="0 0 0" xyz="0 0 -0.462398872"/>
		</collision>
	</link>
	<joint name="IRC5_Compact:1--lower vertical rail:21" type="fixed">
		<parent link="lower vertical rail:21"/>
		<child link="IRC5_Compact:11"/>
		<origin rpy="1.57095443956 1.57079632679 0.000126494212215" xyz="-0.27484578 -0.52197457201 0.0408498038687"/>
	</joint>
	<link name="lower side rail:31">
		<visual>
			<geometry>
				<mesh filename="package://abby_urdf/lower side rail_ipt_926bd022.stl" scale=".0254 .0254 .0254"/>
			</geometry>
			<origin rpy="0 0 0" xyz="0 -0.027500072 -0.02308606"/>
			<material name="lower side rail:31_color">
				<color rgba="0.772549 0.760784 0.803922 1"/>
			</material>
		</visual>
		<inertial>
			<mass value="3.81828825"/>
			<inertia ixx="0.0002527964516" ixy="0.0" ixz="0.0" iyy="0.0179577398" iyz="0.0" izz="0.0179577398"/>
			<origin rpy="0 0 0" xyz="0.26098754 -0.019999960002 -0.01700022"/>
		</inertial>
		<collision>
			<geometry>
				<mesh filename="package://abby_urdf/lower side rail_ipt_926bd022.stl" scale=".0254 .0254 .0254"/>
			</geometry>
			<origin rpy="0 0 0" xyz="0 -0.027500072 -0.02308606"/>
		</collision>
	</link>
	<joint name="lower side rail:3--lower side rail:21" type="fixed">
		<parent link="lower side rail:21"/>
		<child link="lower side rail:31"/>
		<origin rpy="0 0 0" xyz="0 -0.490849666 -0.269196820001"/>
	</joint>
	<link name="PC:11">
		<visual>
			<geometry>
				<mesh filename="package://abby_urdf/pc_ipt_a7ade237.stl" scale=".0254 .0254 .0254"/>
			</geometry>
			<origin rpy="0 0 0" xyz="0 0 0"/>
			<material name="PC:11_color">
				<color rgba="0 0 0 1"/>
			</material>
		</visual>
		<inertial>
			<mass value="63.5827185"/>
			<inertia ixx="0.1990203754" ixy="0.0001042931736" ixz="0.000616941248" iyy="0.30784446" iyz="0.0001481299204" izz="0.1287580448"/>
			<origin rpy="0 0 0" xyz="0.164833554002 0.0475996 0.207873599999"/>
		</inertial>
		<collision>
			<geometry>
				<mesh filename="package://abby_urdf/pc_ipt_a7ade237.stl" scale=".0254 .0254 .0254"/>
			</geometry>
			<origin rpy="0 0 0" xyz="0 0 0"/>
		</collision>
	</link>
	<joint name="PC:1--lower side rail:21" type="fixed">
		<parent link="lower side rail:21"/>
		<child link="PC:11"/>
		<origin rpy="-1.57079632679 0 -1.57079632679" xyz="0.0901750799996 -0.0507997460009 0.10459974"/>
	</joint>
	<link name="frame bracket:41">
		<visual>
			<geometry>
				<mesh filename="package://abby_urdf/frame bracket_ipt_f5a4f28d.stl" scale=".0254 .0254 .0254"/>
			</geometry>
			<origin rpy="0 0 0" xyz="-0.0508011227754 -0.0508002539996 -0.00635025313587"/>
			<material name="frame bracket:41_color">
				<color rgba="0.639216 0.639216 0.639216 1"/>
			</material>
		</visual>
		<inertial>
			<mass value="3.472875"/>
			<inertia ixx="0.000430464342" ixy="0.0" ixz="-1.181352018e-05" iyy="0.001091541374" iyz="0.0" izz="0.001059703568"/>
			<origin rpy="0 0 0" xyz="0.026295786011 -0.0254000000002 0.010379711334"/>
		</inertial>
		<collision>
			<geometry>
				<mesh filename="package://abby_urdf/frame bracket_ipt_f5a4f28d.stl" scale=".0254 .0254 .0254"/>
			</geometry>
			<origin rpy="0 0 0" xyz="-0.0508011227754 -0.0508002539996 -0.00635025313587"/>
		</collision>
	</link>
	<joint name="frame bracket:4--frame bracket:11" type="fixed">
		<parent link="frame bracket:11"/>
		<child link="frame bracket:41"/>
		<origin rpy="0 0 0" xyz="-0.617813733008 -0.218772485996 0.391860873726"/>
	</joint>
	<link name="arm rail:11">
		<visual>
			<geometry>
				<mesh filename="package://abby_urdf/arm rail_ipt_926bd022.stl" scale=".0254 .0254 .0254"/>
			</geometry>
			<origin rpy="0 0 0" xyz="0.0929132000003 0.0124993400012 0.15043912"/>
			<material name="arm rail:11_color">
				<color rgba="0.772549 0.760784 0.803922 1"/>
			</material>
		</visual>
		<inertial>
			<mass value="8.9185194"/>
			<inertia ixx="0.0005904668" ixy="0.0" ixz="0.0" iyy="0.2275222488" iyz="0.0" izz="0.2275222488"/>
			<origin rpy="0 0 0" xyz="0.7025132 0.0199999600012 0.156524959999"/>
		</inertial>
		<collision>
			<geometry>
				<mesh filename="package://abby_urdf/arm rail_ipt_926bd022.stl" scale=".0254 .0254 .0254"/>
			</geometry>
			<origin rpy="0 0 0" xyz="0.0929132000003 0.0124993400012 0.15043912"/>
		</collision>
	</link>
	<joint name="frame bracket:4--arm rail:11" type="fixed">
		<parent link="frame bracket:41"/>
		<child link="arm rail:11"/>
		<origin rpy="-1.57079632681 -1.47691506249 0" xyz="0.00958189891915 -0.00762000000005 0.0543473244699"/>
	</joint>
	<link name="IRB120_Base_rev0:11">
		<visual>
			<geometry>
				<mesh filename="package://abby_urdf/irb120_base_rev0_iam_38446303.stl" scale=".0254 .0254 .0254"/>
			</geometry>
			<origin rpy="0 0 0" xyz="0.04203954 -0.07963916 8.0162399451e-05"/>
			<material name="IRB120_Base_rev0:11_color">
				<color rgba="0.752941 0.752941 0.752941 1"/>
			</material>
		</visual>
		<inertial>
			<mass value="30.212469"/>
			<inertia ixx="0.02472399776" ixy="-0.001308714946" ixz="-8.07856896e-05" iyy="0.047231492" iyz="-8.03154814e-06" izz="0.0491222732"/>
			<origin rpy="0 0 0" xyz="0 0 0"/>
		</inertial>
		<collision>
			<geometry>
				<mesh filename="package://abby_urdf/irb120_base_rev0_iam_38446303.stl" scale=".0254 .0254 .0254"/>
			</geometry>
			<origin rpy="0 0 0" xyz="0.04203954 -0.07963916 8.0162399451e-05"/>
		</collision>
	</link>
	<joint name="IRB120_Base_rev0:1--arm rail:11" type="fixed">
		<parent link="arm rail:11"/>
		<child link="IRB120_Base_rev0:11"/>
		<origin rpy="0 0 -3.14159265359" xyz="0.55055262 -0.0796391599982 0.2324448234"/>
	</joint>
	<link name="IRB120_Link1_rev0:11">
		<visual>
			<geometry>
				<mesh filename="package://abby_urdf/irb120_link1_rev0_iam_3fe6e7e5.stl" scale=".0254 .0254 .0254"/>
			</geometry>
			<origin rpy="0 0 0" xyz="0 -0.17649952 0"/>
			<material name="IRB120_Link1_rev0:11_color">
				<color rgba="0.752941 0.752941 0.752941 1"/>
			</material>
		</visual>
		<inertial>
			<mass value="14.91106995"/>
			<inertia ixx="0.01421766808" ixy="2.310489566e-05" ixz="-1.086002456e-05" iyy="0.01045483208" iyz="1.933857772e-05" izz="0.01440358612"/>
			<origin rpy="0 0 0" xyz="9.92932610522e-05 0.0619125 0.000120146707416"/>
		</inertial>
		<collision>
			<geometry>
				<mesh filename="package://abby_urdf/irb120_link1_rev0_iam_3fe6e7e5.stl" scale=".0254 .0254 .0254"/>
			</geometry>
			<origin rpy="0 0 0" xyz="0 -0.17649952 0"/>
		</collision>
	</link>
	<joint name="IRB120_Base_rev0:1--IRB120_Link1_rev0:11" type="fixed">
		<parent link="IRB120_Base_rev0:11"/>
		<child link="IRB120_Link1_rev0:11"/>
		<origin rpy="-3.14159265359 -0.668845740547 3.14159265359" xyz="0.04203954 0.09686036 8.01624008326e-05"/>
	</joint>
	<link name="IRB120_Link2_rev0:11">
		<visual>
			<geometry>
				<mesh filename="package://abby_urdf/irb120_link2_rev0_iam_90725b7e.stl" scale=".0254 .0254 .0254"/>
			</geometry>
			<origin rpy="0 0 0" xyz="1.54358428861e-06 0.269999754796 0.115499748015"/>
			<material name="IRB120_Link2_rev0:11_color">
				<color rgba="0.752941 0.752941 0.752941 1"/>
			</material>
		</visual>
		<inertial>
			<mass value="19.0011906"/>
			<inertia ixx="0.060306323" ixy="-5.7248653e-05" ixz="9.01272372e-06" iyy="0.02595221552" iyz="-0.000504936894" izz="0.0415658782"/>
			<origin rpy="0 0 0" xyz="0.000778420420581 0.101238818962 0.0596167646499"/>
		</inertial>
		<collision>
			<geometry>
				<mesh filename="package://abby_urdf/irb120_link2_rev0_iam_90725b7e.stl" scale=".0254 .0254 .0254"/>
			</geometry>
			<origin rpy="0 0 0" xyz="1.54358428861e-06 0.269999754796 0.115499748015"/>
		</collision>
	</link>
	<joint name="IRB120_Link2_rev0:1--IRB120_Link1_rev0:11" type="fixed">
		<parent link="IRB120_Link1_rev0:11"/>
		<child link="IRB120_Link2_rev0:11"/>
		<origin rpy="-3.80159157812e-07 -2.82044180594e-07 1.9676191066" xyz="5.57577730098e-07 0.1134999 -0.0574996276953"/>
	</joint>
	<link name="IRB120_Link3_rev0:11">
		<visual>
			<geometry>
				<mesh filename="package://abby_urdf/irb120_link3_rev0_iam_86ced70a.stl" scale=".0254 .0254 .0254"/>
			</geometry>
			<origin rpy="0 0 0" xyz="0.071952848745 -0.0661526901756 0.0589997805382"/>
			<material name="IRB120_Link3_rev0:11_color">
				<color rgba="0.752941 0.752941 0.752941 1"/>
			</material>
		</visual>
		<inertial>
			<mass value="14.3105382"/>
			<inertia ixx="0.0083134975" ixy="-0.001428467348" ixz="-7.99166676e-05" iyy="0.01265442332" iyz="-0.0001816964072" izz="0.0167115564"/>
			<origin rpy="0 0 0" xyz="0.0228077138503 0.0579088629114 0.0579265785584"/>
		</inertial>
		<collision>
			<geometry>
				<mesh filename="package://abby_urdf/irb120_link3_rev0_iam_86ced70a.stl" scale=".0254 .0254 .0254"/>
			</geometry>
			<origin rpy="0 0 0" xyz="0.071952848745 -0.0661526901756 0.0589997805382"/>
		</collision>
	</link>
	<joint name="IRB120_Link3_rev0:1--IRB120_Link2_rev0:11" type="fixed">
		<parent link="IRB120_Link2_rev0:11"/>
		<child link="IRB120_Link3_rev0:11"/>
		<origin rpy="3.27588928035e-07 1.6571775175e-07 0.989050240485" xyz="1.65908264516e-06 0.270000153642 -0.00150067174086"/>
	</joint>
	<link name="IRB120_Link4_rev0:11">
		<visual>
			<geometry>
				<mesh filename="package://abby_urdf/irb120_link4_rev0_iam_467bed4b.stl" scale=".0254 .0254 .0254"/>
			</geometry>
			<origin rpy="0 0 0" xyz="500.300717948 0.000323115263097 -0.000534198444973"/>
			<material name="IRB120_Link4_rev0:11_color">
				<color rgba="0.752941 0.752941 0.752941 1"/>
			</material>
		</visual>
		<inertial>
			<mass value="6.45520365"/>
			<inertia ixx="0.002845438442" ixy="1.647987572e-05" ixz="-2.124167738e-05" iyy="0.0052529015" iyz="1.313867632e-05" izz="0.00401239454"/>
			<origin rpy="0 0 0" xyz="500.223422762 0.00073052394364 -0.000688254218928"/>
		</inertial>
		<collision>
			<geometry>
				<mesh filename="package://abby_urdf/irb120_link4_rev0_iam_467bed4b.stl" scale=".0254 .0254 .0254"/>
			</geometry>
			<origin rpy="0 0 0" xyz="500.300717948 0.000323115263097 -0.000534198444973"/>
		</collision>
	</link>
	<joint name="IRB120_Link3_rev0:1--IRB120_Link4_rev0:11" type="fixed">
		<parent link="IRB120_Link3_rev0:11"/>
		<child link="IRB120_Link4_rev0:11"/>
		<origin rpy="-1.52544583094 1.29532332105e-07 2.10681567856e-07" xyz="-499.998719007 0.0704151062567 0.0594124809604"/>
	</joint>
	<link name="IRB120_Link5_rev0:11">
		<visual>
			<geometry>
				<mesh filename="package://abby_urdf/irb120_link5_rev0_iam_8f44ede8.stl" scale=".0254 .0254 .0254"/>
			</geometry>
			<origin rpy="0 0 0" xyz="-0.301998488439 -0.629998750685 -0.0619993114233"/>
			<material name="IRB120_Link5_rev0:11_color">
				<color rgba="0.752941 0.752941 0.752941 1"/>
			</material>
		</visual>
		<inertial>
			<mass value="2.6572896"/>
			<inertia ixx="0.000404250308" ixy="-8.15101672e-07" ixz="1.61652722e-06" iyy="0.000815283084" iyz="-1.388805418e-08" izz="0.000892037916"/>
			<origin rpy="0 0 0" xyz="-0.00109373496991 6.05486054402e-05 -0.0620361403843"/>
		</inertial>
		<collision>
			<geometry>
				<mesh filename="package://abby_urdf/irb120_link5_rev0_iam_8f44ede8.stl" scale=".0254 .0254 .0254"/>
			</geometry>
			<origin rpy="0 0 0" xyz="-0.301998488439 -0.629998750685 -0.0619993114233"/>
		</collision>
	</link>
	<joint name="IRB120_Link4_rev0:1--IRB120_Link5_rev0:11" type="fixed">
		<parent link="IRB120_Link4_rev0:11"/>
		<child link="IRB120_Link5_rev0:11"/>
		<origin rpy="1.62064242789e-07 3.95710603923e-07 -0.163660073928" xyz="500.300717002 0.000323170094552 0.0614640480071"/>
	</joint>
	<link name="IRB120_Link6_rev0:11">
		<visual>
			<geometry>
				<mesh filename="package://abby_urdf/irb120_link6_rev0_ipt_8026fdc3.stl" scale=".0254 .0254 .0254"/>
			</geometry>
			<origin rpy="0 0 0" xyz="1.12309129374e-06 -1.47603399692e-06 -0.0130014294661"/>
			<material name="IRB120_Link6_rev0:11_color">
				<color rgba="0.752941 0.752941 0.752941 1"/>
			</material>
		</visual>
		<inertial>
			<mass value="0.066493539"/>
			<inertia ixx="1.657479516e-06" ixy="-3.06665282e-12" ixz="8.92143252e-11" iyy="1.694034034e-06" iyz="-7.66146766e-09" izz="2.97641498e-06"/>
			<origin rpy="0 0 0" xyz="9.55338238295e-07 0.000168825897927 -0.00706242193177"/>
		</inertial>
		<collision>
			<geometry>
				<mesh filename="package://abby_urdf/irb120_link6_rev0_ipt_8026fdc3.stl" scale=".0254 .0254 .0254"/>
			</geometry>
			<origin rpy="0 0 0" xyz="1.12309129374e-06 -1.47603399692e-06 -0.0130014294661"/>
		</collision>
	</link>
	<joint name="IRB120_Link5_rev0:1--IRB120_Link6_rev0:11" type="fixed">
		<parent link="IRB120_Link5_rev0:11"/>
		<child link="IRB120_Link6_rev0:11"/>
		<origin rpy="-1.5707961734 0.571193670262 -1.57079621992" xyz="0.0720015346867 1.53654876478e-06 -0.0620000617744"/>
	</joint>
	<link name="aim rail cross brace:11">
		<visual>
			<geometry>
				<mesh filename="package://abby_urdf/aim rail cross brace_ipt_926bd022.stl" scale=".0254 .0254 .0254"/>
			</geometry>
			<origin rpy="0 0 0" xyz="-0.1095375 -0.00750061999914 -0.00608583999981"/>
			<material name="aim rail cross brace:11_color">
				<color rgba="0.772549 0.760784 0.803922 1"/>
			</material>
		</visual>
		<inertial>
			<mass value="0.801272745"/>
			<inertia ixx="5.3049843e-05" ixy="0.0" ixz="0.0" iyy="0.000191312121" iyz="0.0" izz="0.000191312121"/>
			<origin rpy="0 0 0" xyz="-0.0547688262 0 0"/>
		</inertial>
		<collision>
			<geometry>
				<mesh filename="package://abby_urdf/aim rail cross brace_ipt_926bd022.stl" scale=".0254 .0254 .0254"/>
			</geometry>
			<origin rpy="0 0 0" xyz="-0.1095375 -0.00750061999914 -0.00608583999981"/>
		</collision>
	</link>
	<joint name="aim rail cross brace:1--arm rail:11" type="fixed">
		<parent link="arm rail:11"/>
		<child link="aim rail cross brace:11"/>
		<origin rpy="0 1.57079632679 0" xyz="1.29211324 0.0199999600014 0.176524919998"/>
	</joint>
	<link name="Kinect:11">
		<visual>
			<geometry>
				<mesh filename="package://abby_urdf/kinect_ipt_94e5d325.stl" scale=".0254 .0254 .0254"/>
			</geometry>
			<origin rpy="0 0 0" xyz="0.0263710419994 0 0.0756615200002"/>
			<material name="Kinect:11_color">
				<color rgba="0 0 0 1"/>
			</material>
		</visual>
		<inertial>
			<mass value="3.49291845"/>
			<inertia ixx="0.000622538686" ixy="2.78141171e-08" ixz="6.83399486e-07" iyy="0.00310445674" iyz="-4.75346256e-05" izz="0.00322690984"/>
			<origin rpy="0 0 0" xyz="0.0644280680445 0.05292598 0.0438175400005"/>
		</inertial>
		<collision>
			<geometry>
				<mesh filename="package://abby_urdf/kinect_ipt_94e5d325.stl" scale=".0254 .0254 .0254"/>
			</geometry>
			<origin rpy="0 0 0" xyz="0.0263710419994 0 0.0756615200002"/>
		</collision>
	</link>
	<joint name="Kinect:1--aim rail cross brace:11" type="fixed">
		<parent link="aim rail cross brace:11"/>
		<child link="Kinect:11"/>
		<origin rpy="1.57079632679 0 0" xyz="-0.114298984 0.0194614800009 0.0199999600002"/>
	</joint>
	<link name="front upright:21">
		<visual>
			<geometry>
				<mesh filename="package://abby_urdf/front upright_ipt_926bd022.stl" scale=".0254 .0254 .0254"/>
			</geometry>
			<origin rpy="0 0 0" xyz="0 -0.00750062000008 -0.00608583999991"/>
			<material name="front upright:21_color">
				<color rgba="0.772549 0.760784 0.803922 1"/>
			</material>
		</visual>
		<inertial>
			<mass value="3.01928445"/>
			<inertia ixx="0.0001998978828" ixy="0.0" ixz="0.0" iyy="0.00891645832" iyz="0.0" izz="0.00891645832"/>
			<origin rpy="0 0 0" xyz="0.206375 0 0"/>
		</inertial>
		<collision>
			<geometry>
				<mesh filename="package://abby_urdf/front upright_ipt_926bd022.stl" scale=".0254 .0254 .0254"/>
			</geometry>
			<origin rpy="0 0 0" xyz="0 -0.00750062000008 -0.00608583999991"/>
		</collision>
	</link>
	<joint name="front upright:2--frame bracket:41" type="fixed">
		<parent link="frame bracket:41"/>
		<child link="front upright:21"/>
		<origin rpy="1.5707963268 -1.47691506249 0" xyz="0.0266482908163 -0.0244449600002 0.00187642115383"/>
	</joint>
</robot>
